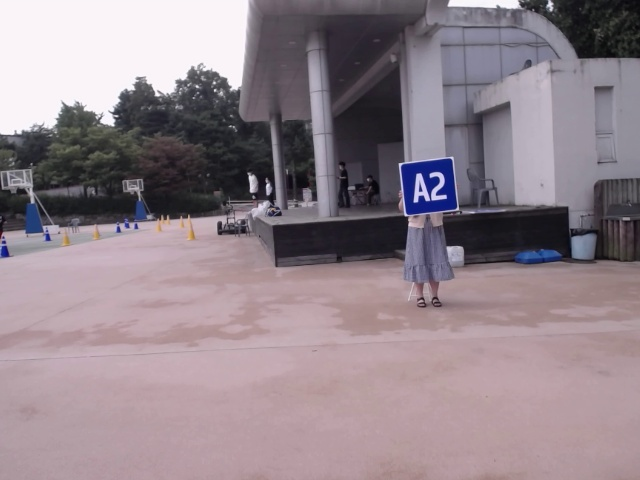delivery_a2: (399, 157, 459, 216)
